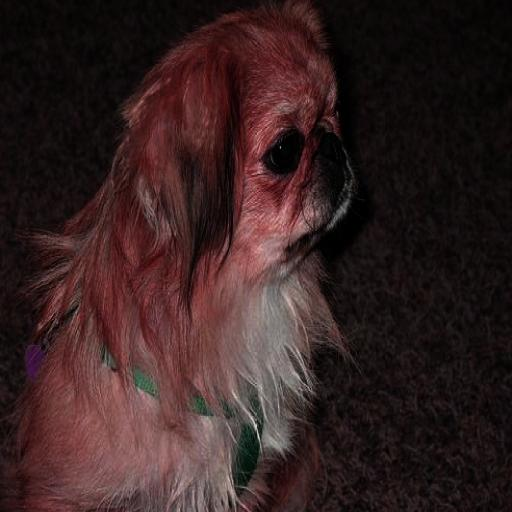dog_face: (106, 3, 360, 261)
